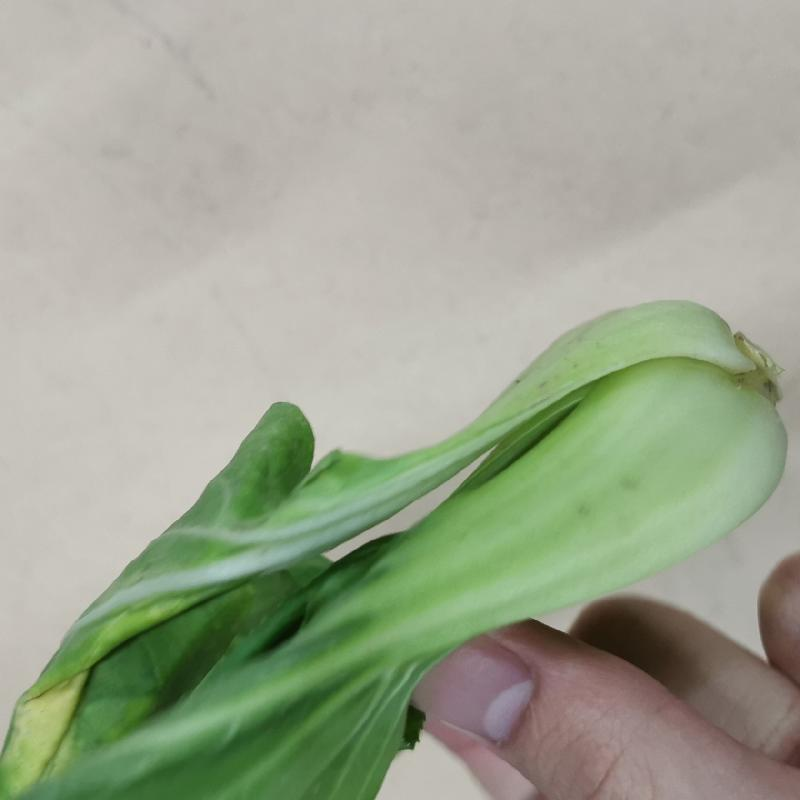green vegatable: (11, 290, 780, 800)
